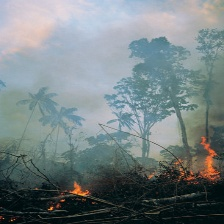fire: (177, 134, 218, 182), (43, 182, 96, 208)
smoke: (4, 2, 222, 155)
